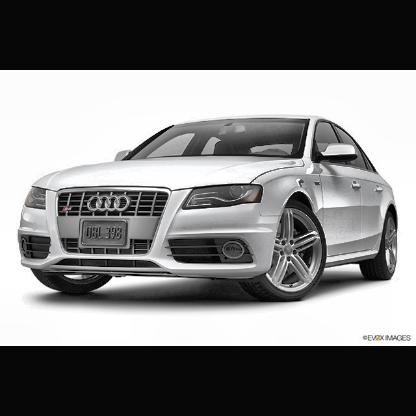Audi S4 Sedan 2012: (20, 116, 398, 301)
